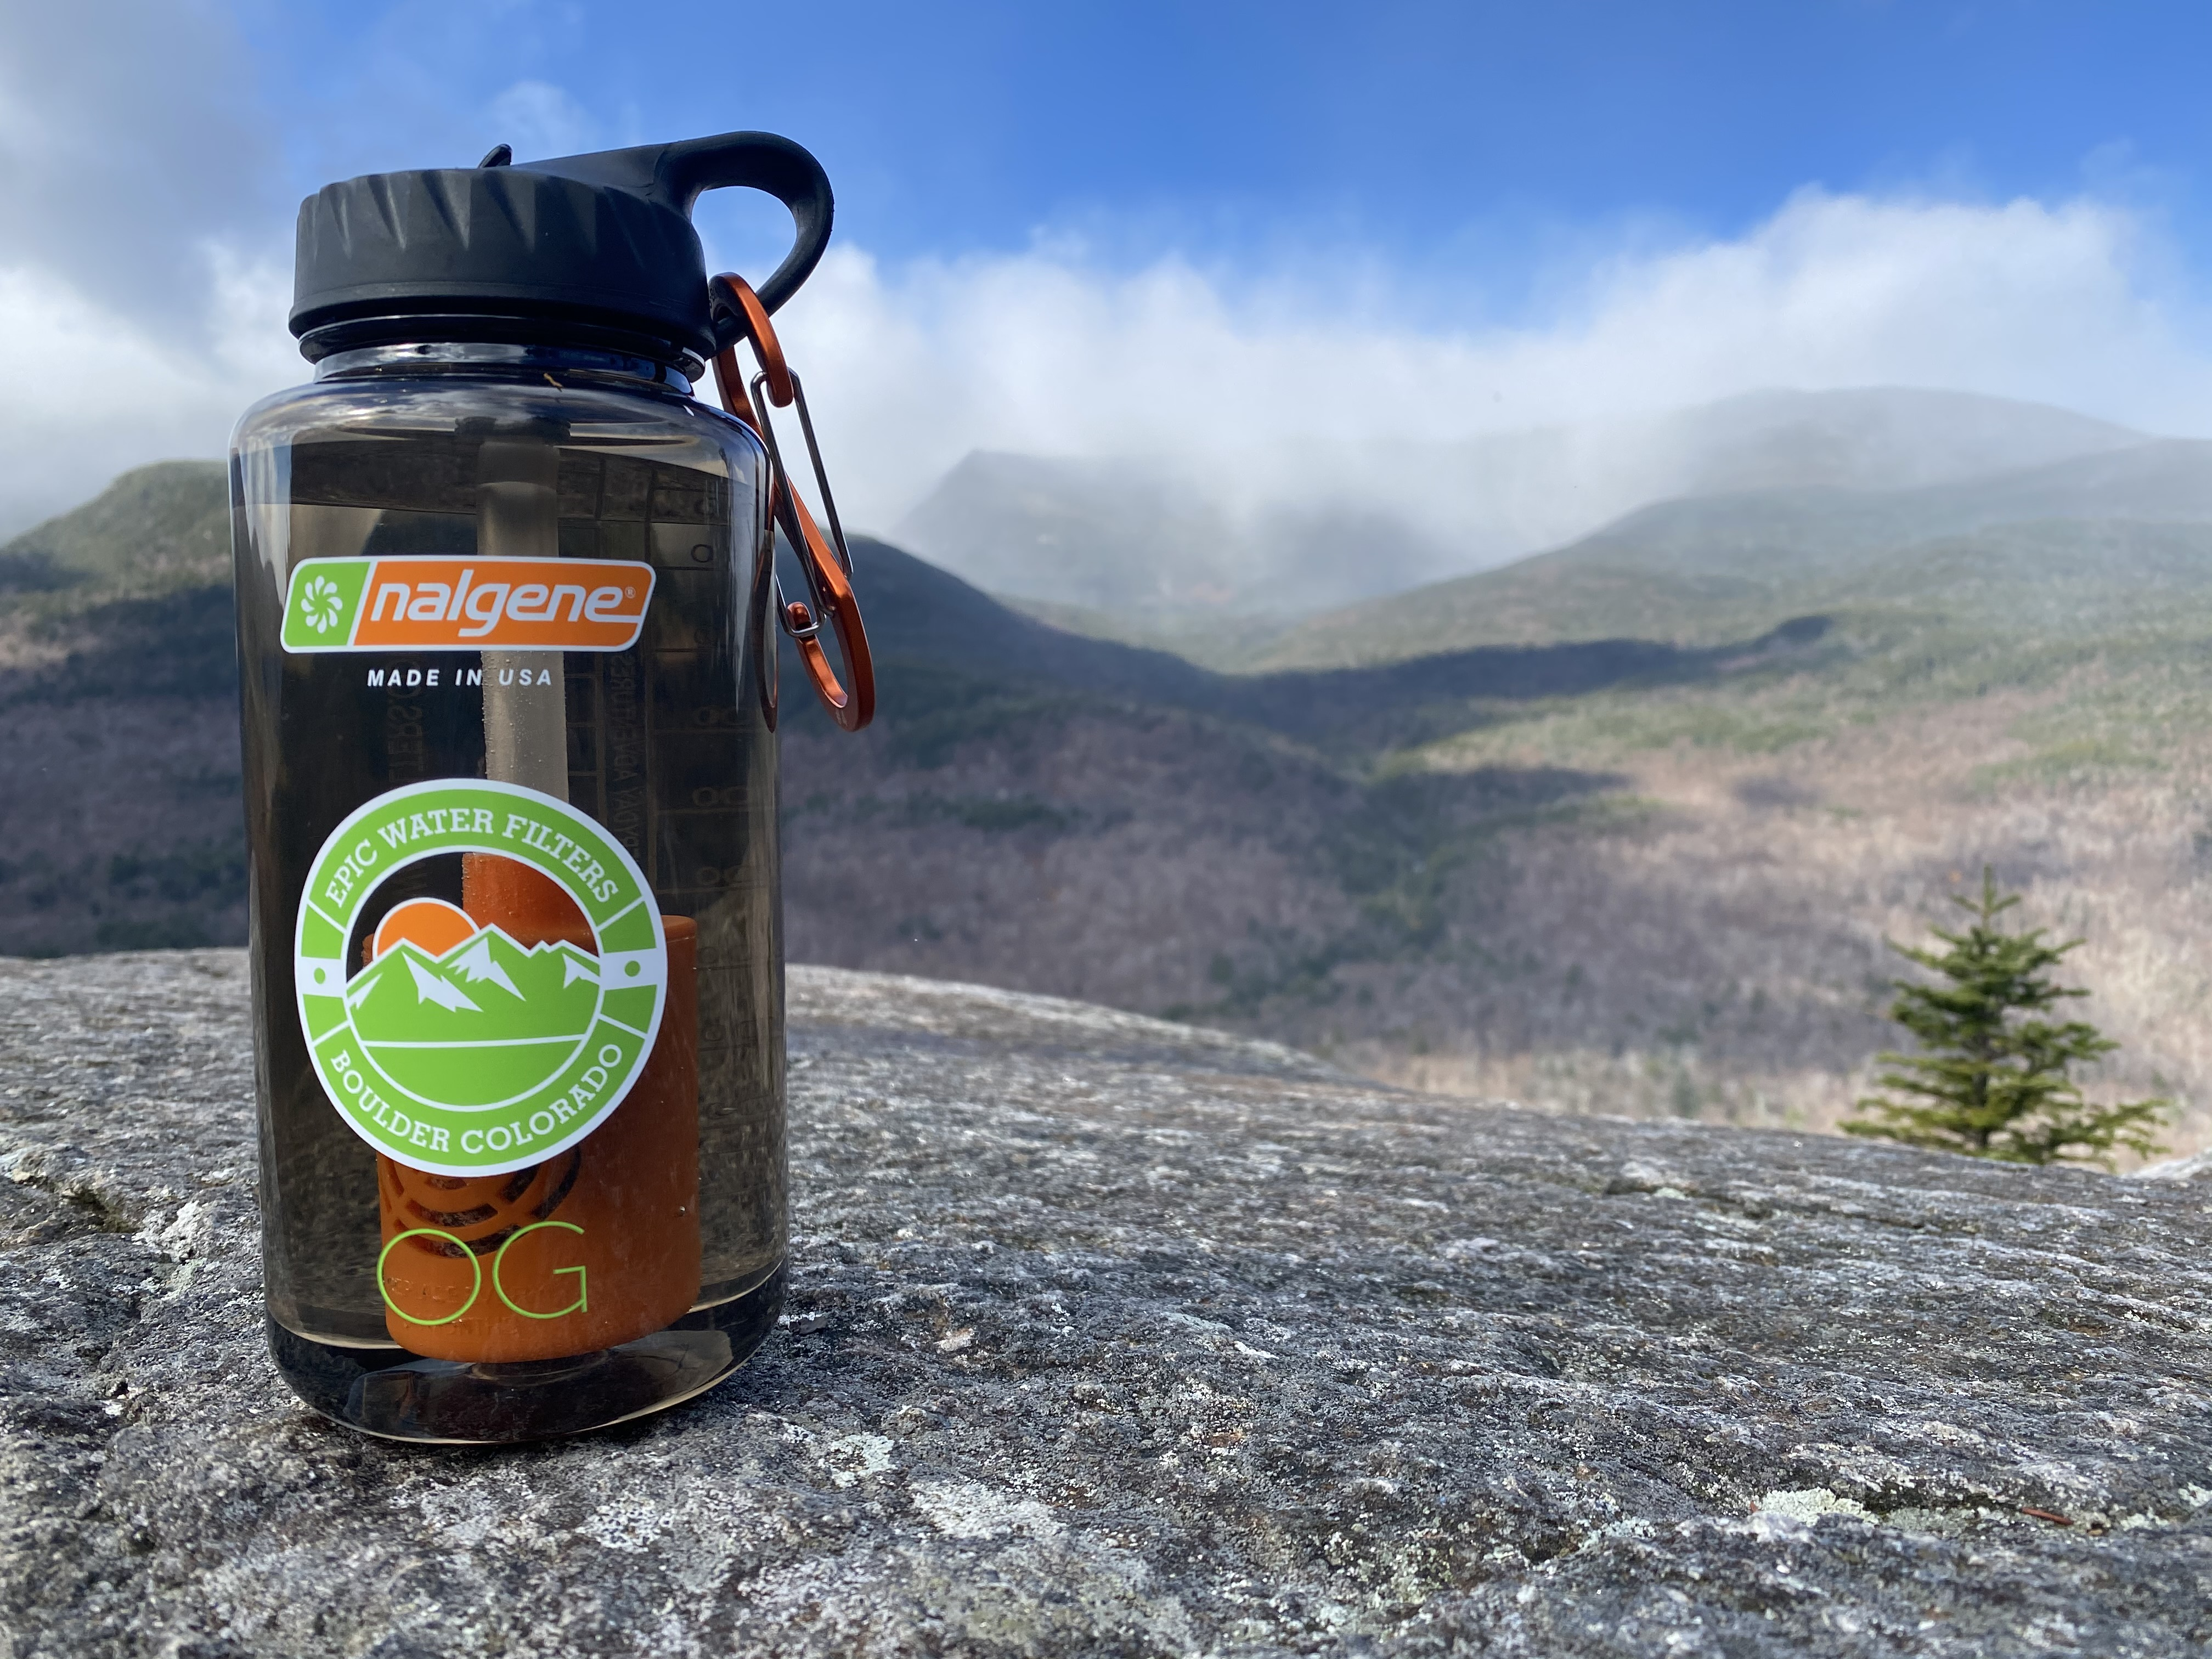bottle: (232, 131, 834, 1452)
